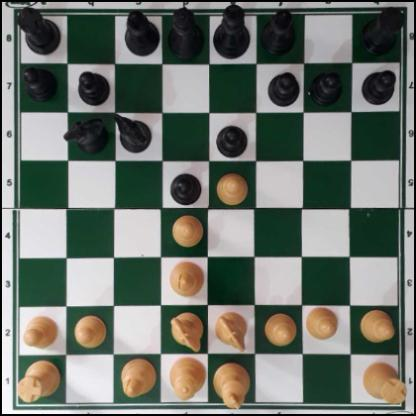black-bishop: (260, 6, 296, 56), (123, 7, 159, 54)
black-king: (213, 4, 251, 58)
black-knight: (66, 116, 106, 154), (113, 113, 152, 151)
black-pawn: (361, 68, 395, 105), (215, 121, 249, 156), (24, 65, 57, 100), (310, 68, 342, 104), (77, 68, 108, 105), (169, 171, 202, 205), (267, 72, 298, 106)
black-queen: (166, 7, 205, 57)
black-rook: (16, 3, 62, 54), (359, 8, 401, 53)
white-bishop: (120, 357, 155, 398), (169, 260, 204, 296)
white-king: (213, 359, 249, 409)
white-knight: (214, 311, 248, 350), (170, 313, 204, 351)
white-pawn: (21, 315, 59, 349), (360, 309, 395, 343), (73, 314, 107, 347), (305, 307, 338, 341), (263, 312, 297, 345), (215, 171, 249, 203), (171, 212, 203, 246)
white-queen: (169, 353, 204, 403)
white-rook: (362, 361, 407, 404), (16, 359, 60, 401)
